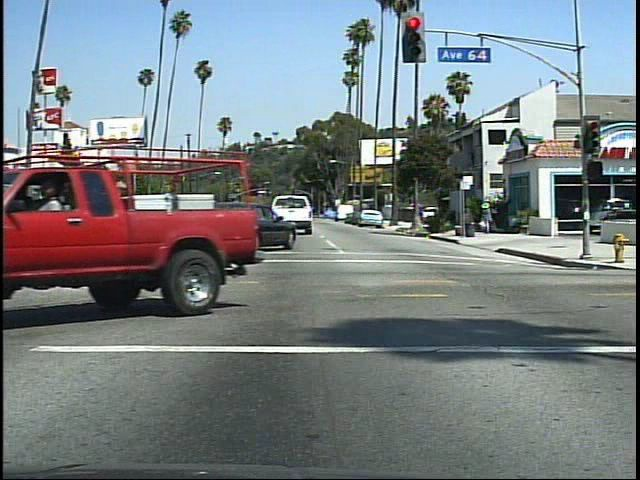person: (41, 175, 84, 314), (477, 199, 500, 239)
